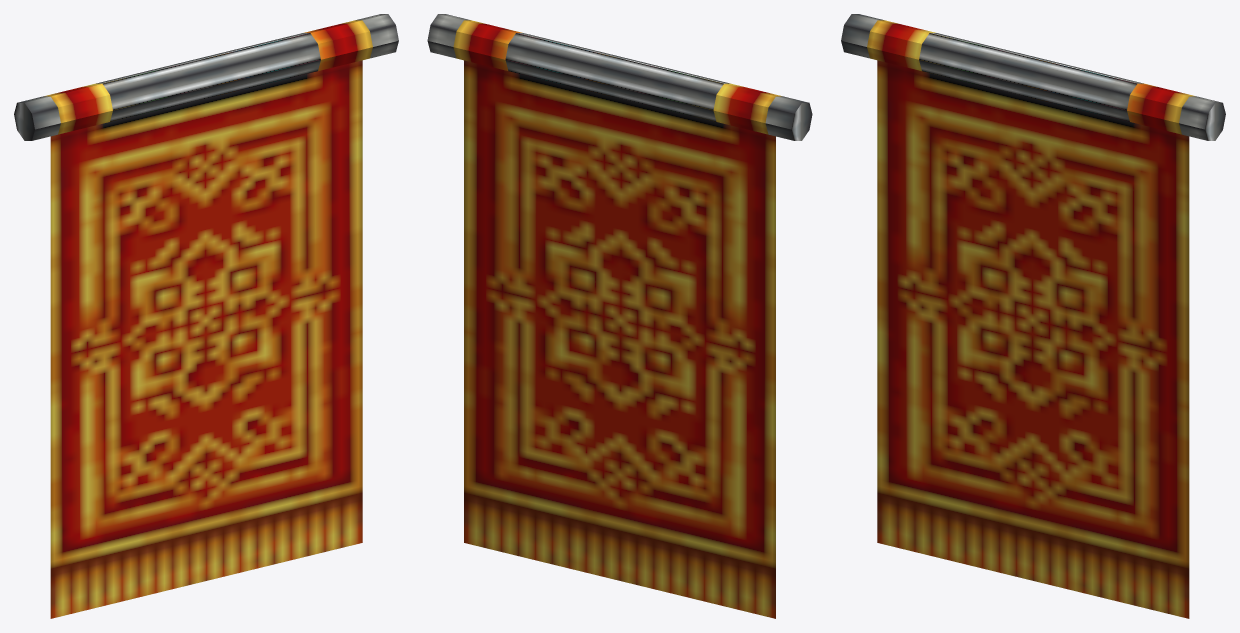
File: Inside_Poly_Flag_01.obj
3 views of the same model, side by side, from view 1: azimuth 30°, elevation 25°; view 2: azimuth 150°, elevation 25°; view 3: azimuth 330°, elevation 25° (orthographic).
Visible parts, largest first — view 1: Cube.001_Cube.002, Cube_Cube.001; view 2: Cube.001_Cube.002, Cube_Cube.001; view 3: Cube.001_Cube.002, Cube_Cube.001.
Part boxes in pixels (box(x1,y1,x2,y2)): Cube.001_Cube.002: box(50, 60, 362, 618); Cube_Cube.001: box(14, 14, 398, 140); Cube.001_Cube.002: box(464, 60, 775, 618); Cube_Cube.001: box(427, 14, 812, 140); Cube.001_Cube.002: box(877, 60, 1189, 618); Cube_Cube.001: box(841, 14, 1225, 140).
Size of the model in its own units: 1.4 by 1.92 by 0.14.
1 material, 1 textured.
